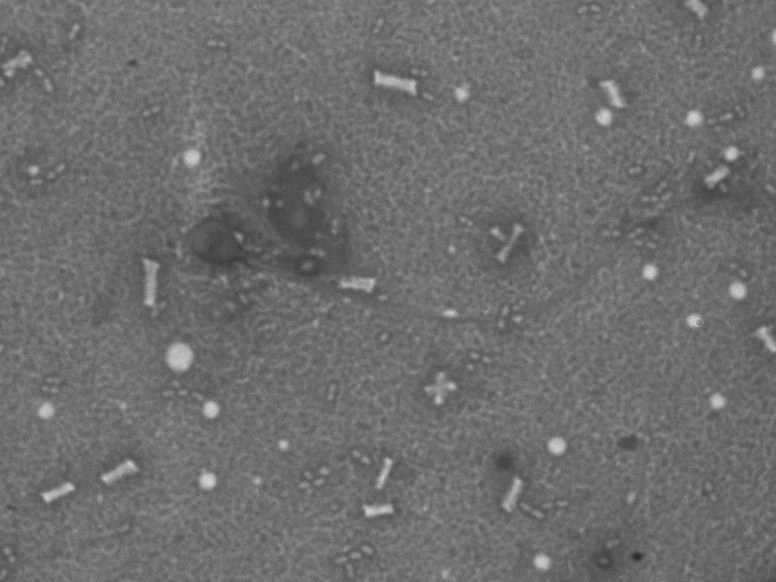Abnormal: (147, 146, 690, 358)
